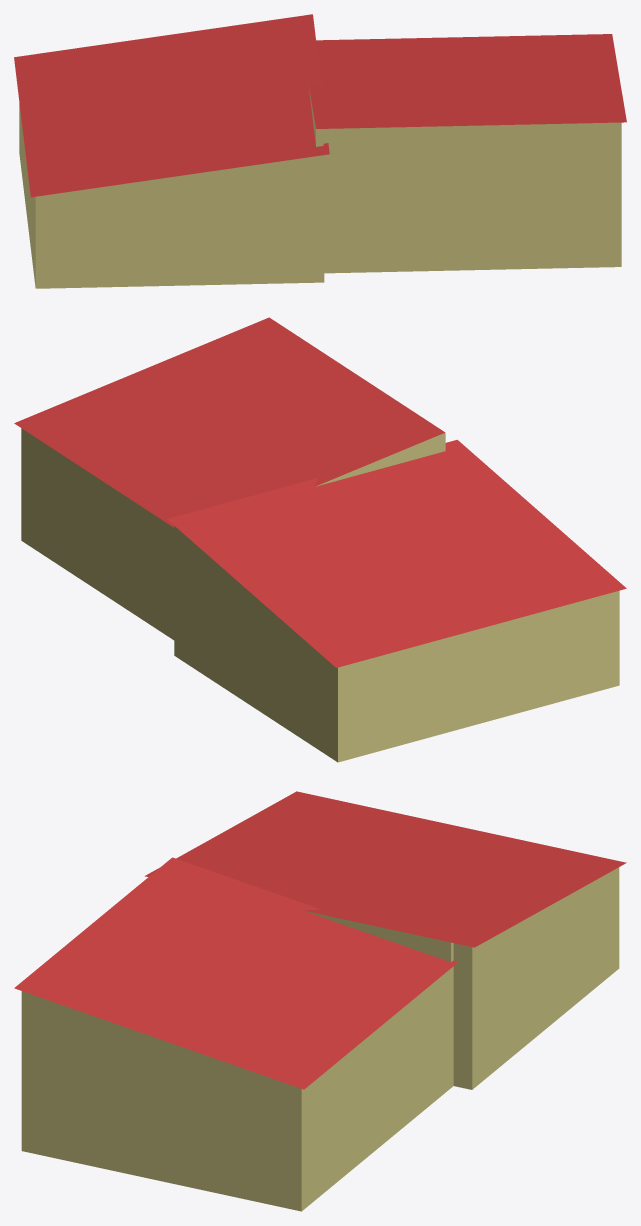
3 views of the same model, one above another, from view 1: azimuth 30°, elevation 25°; view 2: azimuth 150°, elevation 25°; view 3: azimuth 270°, elevation 25° (orthographic). The views are drawn at different scales.
Size of the model in its own units: 33.2 by 26.98 by 7.96.
